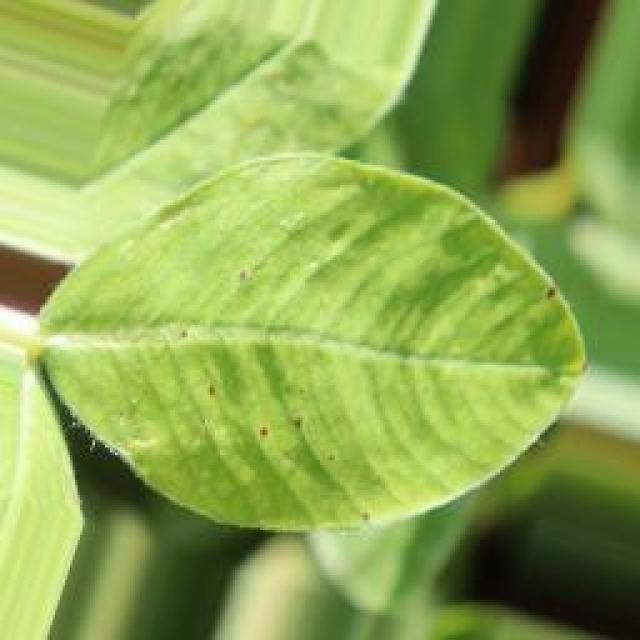Sigatoka: (218, 249, 307, 340), (504, 269, 592, 350), (213, 399, 312, 455), (181, 361, 230, 419), (150, 312, 204, 362), (360, 493, 390, 552)
